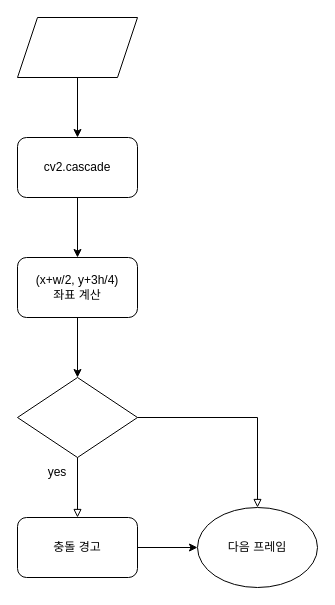
Some shapes in this 335 by 605 pixel diagram are drawn without their labels. Here are the shapes that lost their labels. From the top down, the centre of each, then its label:
At (77,47): "pyrDown Grayscale".
At (77,417): "임의 영역내 있나?".
